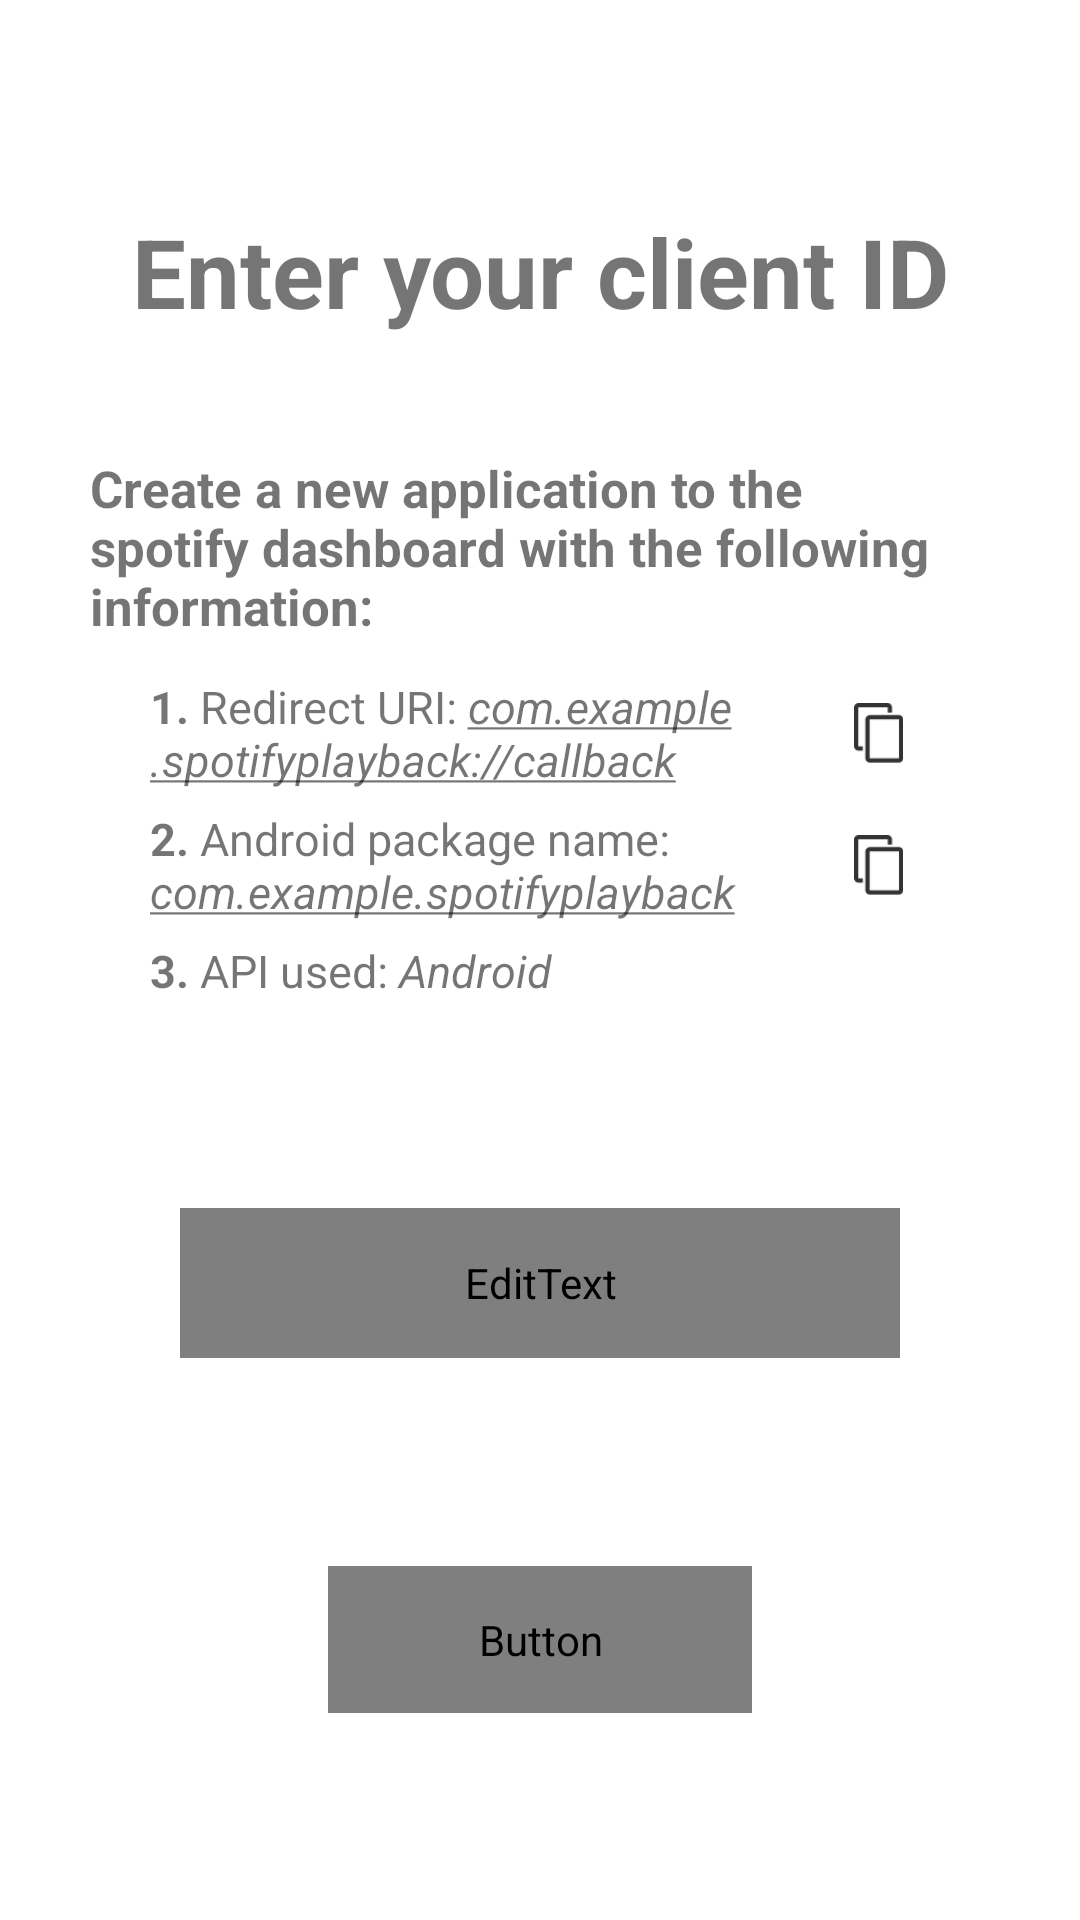

Where icons sit on this 1080x1920 app screen, as (left=x1, top=y1, right=x2, bottom=y2):
Copy the link to clipboard: (left=854, top=703, right=903, bottom=763), (left=854, top=835, right=903, bottom=895)
